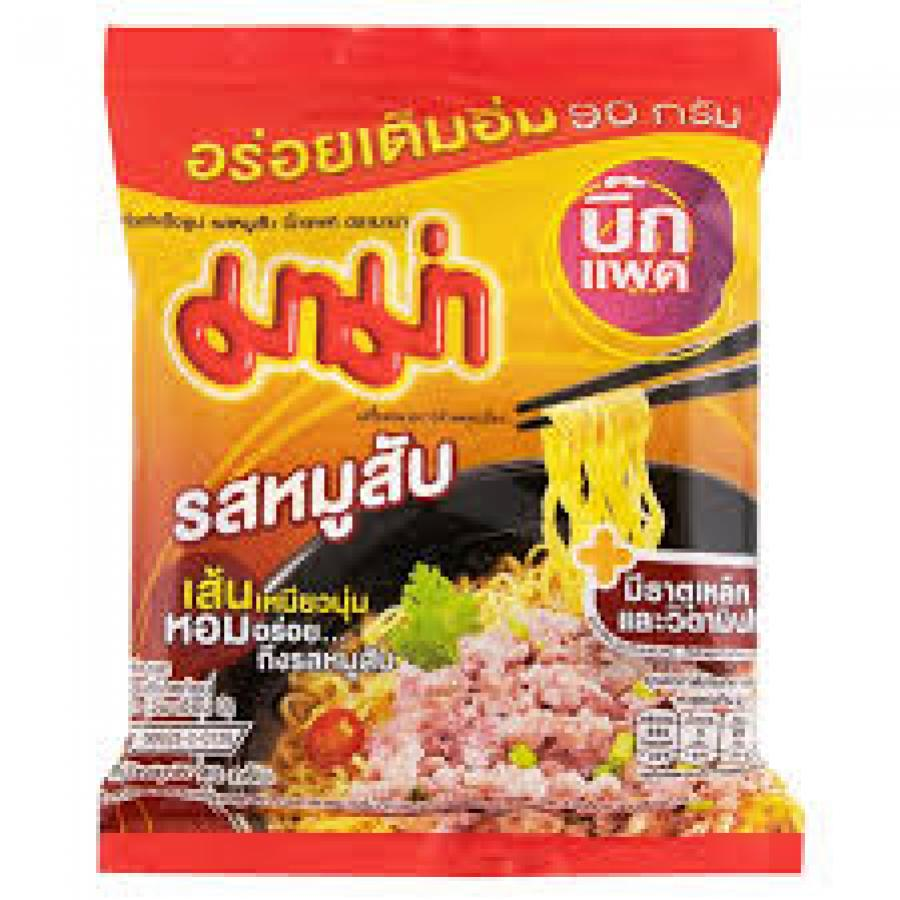Snack: (88, 10, 819, 885)
